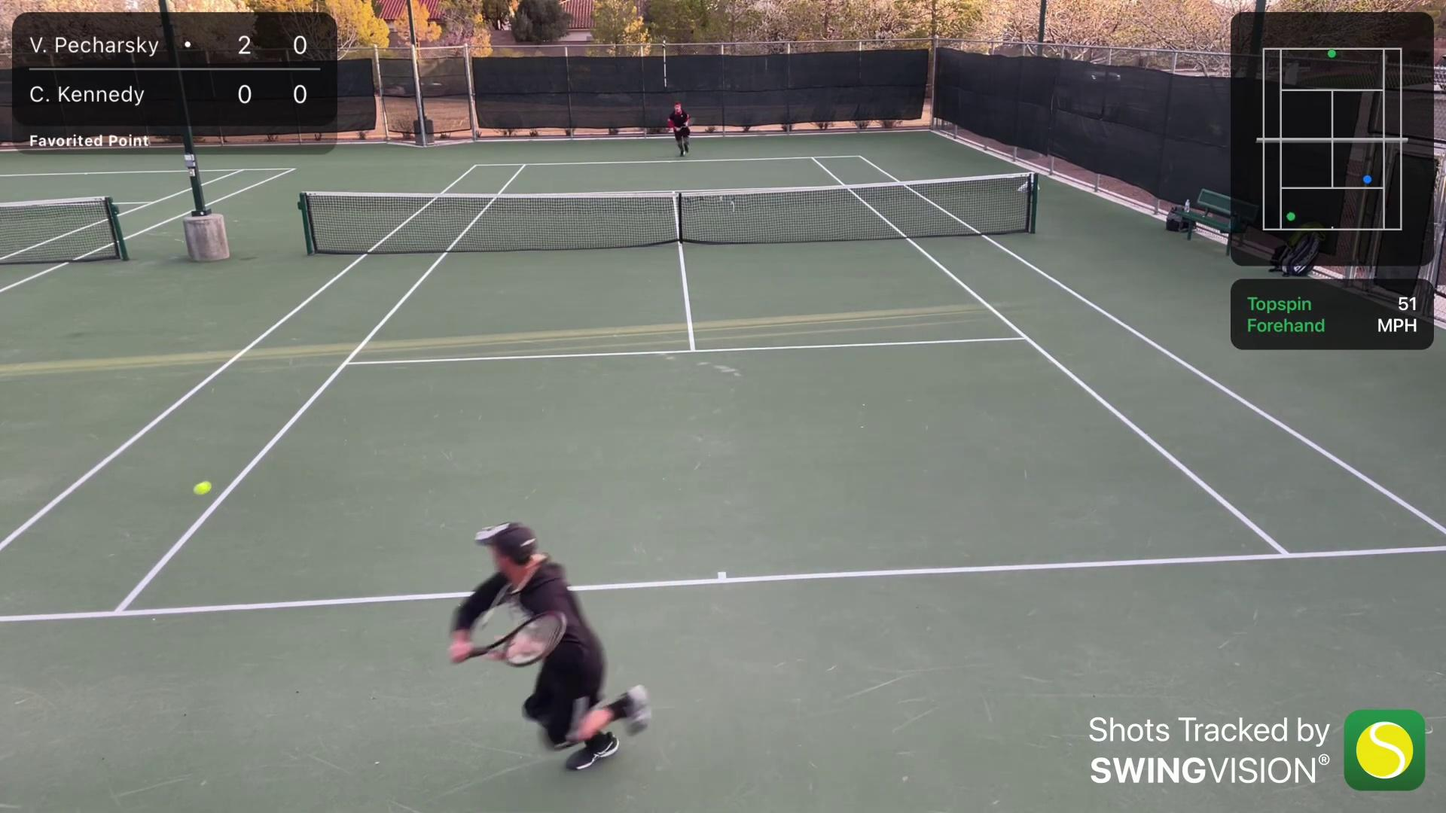ball: (189, 478, 215, 496)
